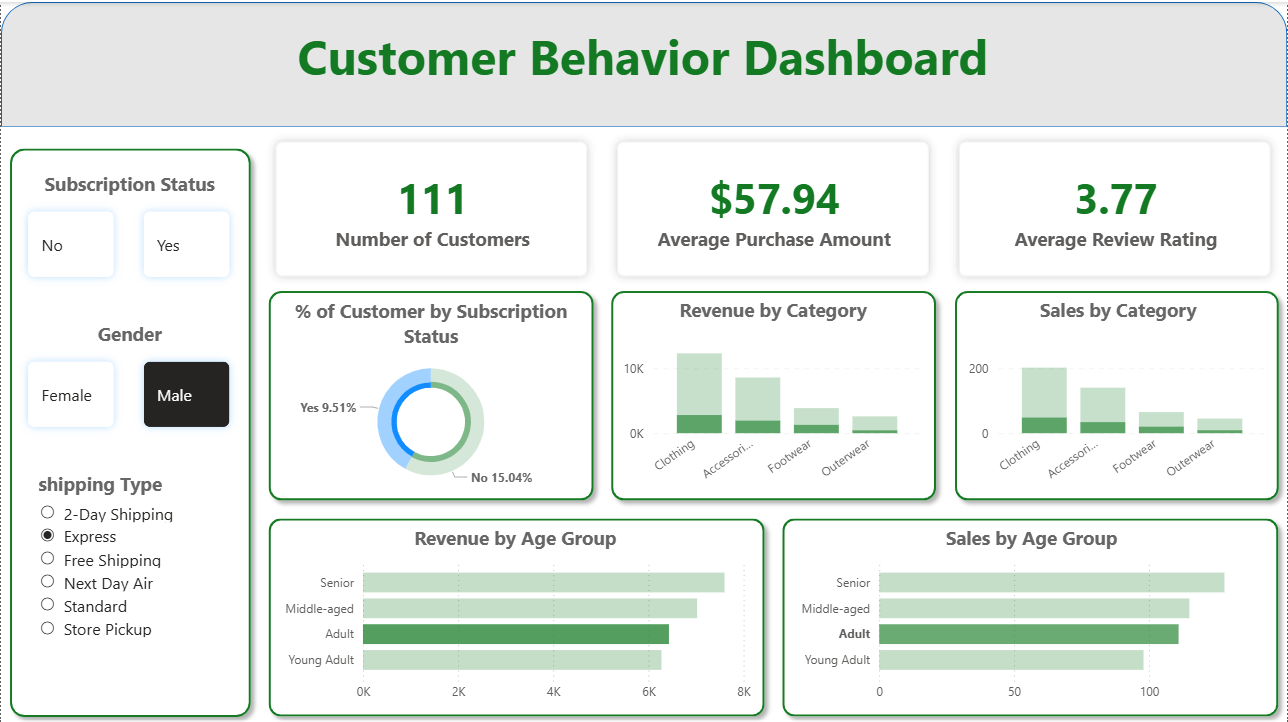

The dashboard page shown, as its layout file describes it:
{"tool":"powerbi","page":{"name":"Page 1","canvas":[1280,720],"ordinal":0},"visuals":[{"type":"cardVisual","fields":{"Data":["public customer.Number of Customers","public customer.Average Purchase Amount","public customer.Average Review Rating"]},"box":[257.5,123.8,1022.5,166.2],"z":0},{"type":"group","id":"g1","title":"Group 1","box":[257.5,278.8,341.2,226.2],"z":0,"group":"g4"},{"type":"shape","box":[939.9,278.8,340.1,226.2],"z":0,"group":"g3"},{"type":"shape","box":[0,0,1280,124.3],"z":1000},{"type":"group","id":"g2","title":"Group 2","box":[598.7,278.8,341.2,226.2],"z":1000,"group":"g4"},{"type":"clusteredColumnChart","title":"Sales by Category","fields":{"Y":["CountNonNull(public customer.customer_id)"],"Category":["public customer.category"]},"box":[957.6,294,307.9,194.7],"z":1000,"group":"g3"},{"type":"textbox","box":[118.8,16.2,1041.2,92.5],"z":2000},{"type":"group","id":"g3","title":"Group 3","box":[939.9,278.8,340.1,226.2],"z":2000,"group":"g4"},{"type":"shape","box":[0,136.2,257.5,583.8],"z":3000},{"type":"shape","box":[257.5,278.8,341.2,226.2],"z":3000,"group":"g1"},{"type":"shape","box":[257.5,505,511.2,215],"z":3000},{"type":"group","id":"g4","title":"Group 4","box":[257.5,278.8,1022.5,226.2],"z":4000},{"type":"donutChart","title":"% of Customer by Subscription Status","fields":{"Category":["public customer.subscription_status"],"Y":["CountNonNull(public customer.customer_id)"]},"box":[272.8,294.6,311,196.9],"z":4000,"group":"g1"},{"type":"advancedSlicerVisual","title":"Subscription Status","fields":{"Values":["public customer.subscription_status"]},"box":[11.2,167.5,233.8,122.5],"z":5000},{"type":"shape","box":[598.7,278.8,341.2,226.2],"z":5000,"group":"g2"},{"type":"advancedSlicerVisual","title":"Gender","fields":{"Values":["public customer.gender"]},"box":[11.2,317.5,233.8,122.5],"z":6000},{"type":"listSlicer","fields":{"Values":["public customer.shipping_type"]},"box":[32.5,466.2,192.5,218.8],"z":6001},{"type":"clusteredColumnChart","title":"Revenue by Category","fields":{"Y":["Sum(public customer.purchase_amount)"],"Category":["public customer.category"]},"box":[614.3,294,307.9,194.7],"z":6002,"group":"g2"},{"type":"clusteredBarChart","title":"Revenue by Age Group","fields":{"Y":["Sum(public customer.purchase_amount)"],"Category":["public customer.age_group"]},"box":[272.5,520,478.8,185],"z":6002},{"type":"shape","box":[768.8,505,511.2,215],"z":6003},{"type":"clusteredBarChart","title":"Sales by Age Group","fields":{"Y":["CountNonNull(public customer.customer_id)"],"Category":["public customer.age_group"]},"box":[786.2,520,478.8,185],"z":6004}]}

Visuals, with their boxes in screenshot pixels (x1, y1, x2, y2), scaled from the page's 1280x720 canvas onto the 1288x722 screenshot:
cardVisual - public customer.Number of Customers x public customer.Average Purchase Amount: <region>259, 124, 1287, 291</region>
"Group 1" group: <region>259, 280, 602, 506</region>
shape: <region>946, 280, 1287, 506</region>
shape: <region>0, 0, 1287, 125</region>
"Group 2" group: <region>602, 280, 946, 506</region>
"Sales by Category" clusteredColumnChart: <region>964, 295, 1273, 490</region>
textbox: <region>120, 16, 1167, 109</region>
"Group 3" group: <region>946, 280, 1287, 506</region>
shape: <region>0, 137, 259, 721</region>
shape: <region>259, 280, 602, 506</region>
shape: <region>259, 506, 774, 721</region>
"Group 4" group: <region>259, 280, 1287, 506</region>
"% of Customer by Subscription Status" donutChart: <region>275, 295, 587, 493</region>
"Subscription Status" advancedSlicerVisual: <region>11, 168, 247, 291</region>
shape: <region>602, 280, 946, 506</region>
"Gender" advancedSlicerVisual: <region>11, 318, 247, 441</region>
listSlicer - public customer.shipping_type: <region>33, 467, 226, 687</region>
"Revenue by Category" clusteredColumnChart: <region>618, 295, 928, 490</region>
"Revenue by Age Group" clusteredBarChart: <region>274, 521, 756, 707</region>
shape: <region>774, 506, 1287, 721</region>
"Sales by Age Group" clusteredBarChart: <region>791, 521, 1273, 707</region>
